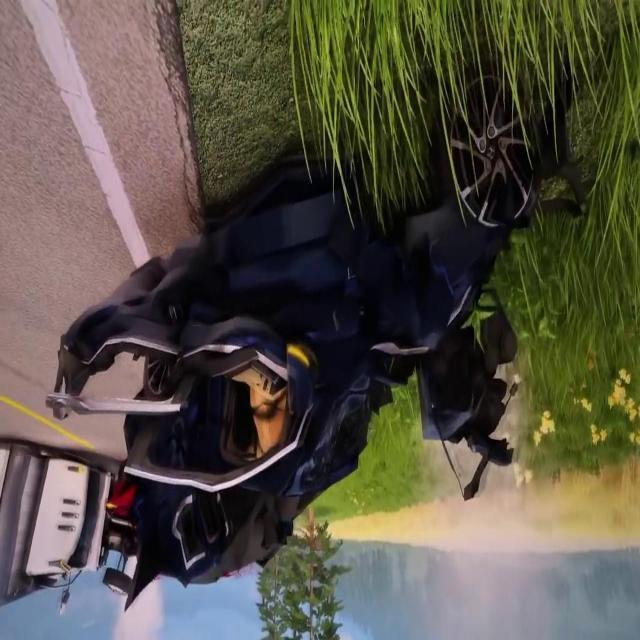severe: (48, 74, 564, 616), (0, 450, 130, 625)
